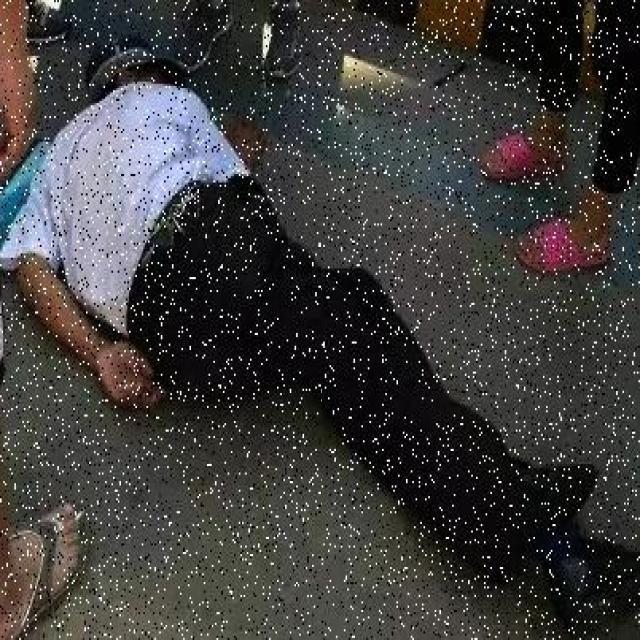fall: (37, 48, 486, 508)
